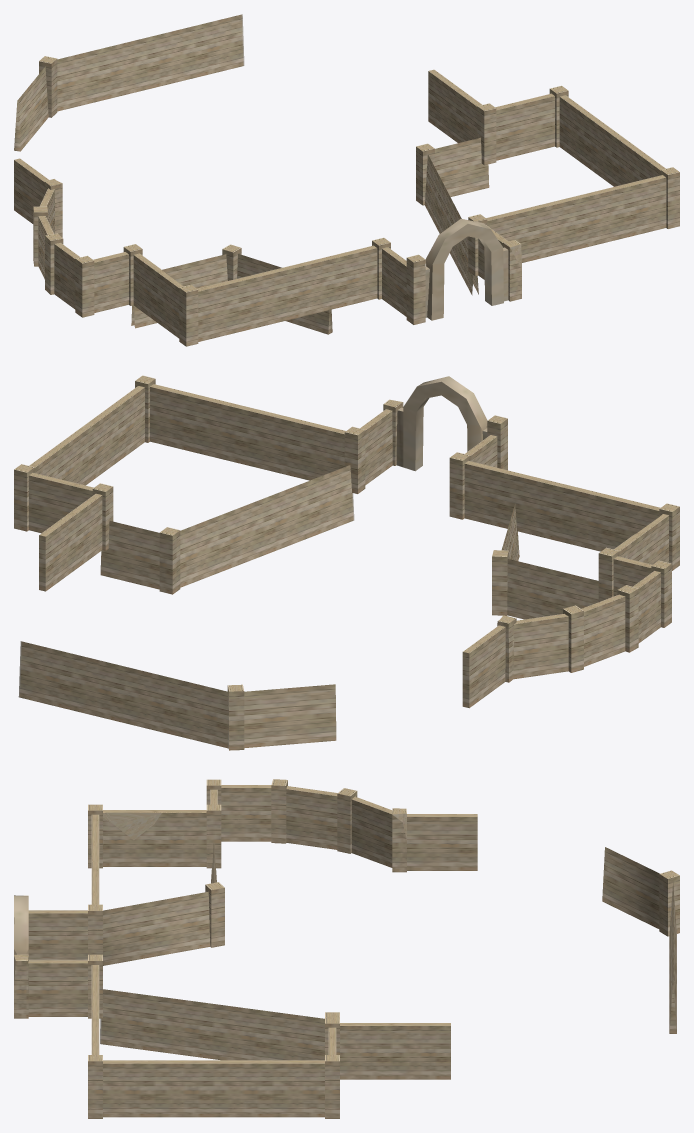
File: poi_nboo_corral_64x64_s01_l1.fbx
3 views of the same model, one above another, from view 1: azimuth 30°, elevation 25°; view 2: azimuth 150°, elevation 25°; view 3: azimuth 270°, elevation 25° (orthographic). The views are drawn at different scales.
Parts seen in each view (by area): view 1: mesh_node; view 2: mesh_node; view 3: mesh_node.
Part boxes in pixels (left/top/right/bottom): mesh_node: left=14, top=14, right=679, bottom=346; mesh_node: left=14, top=375, right=679, bottom=750; mesh_node: left=14, top=779, right=679, bottom=1118.
Bounding box in the file's own units: 45.06 × 9 × 44.96.
Materials: 1 (1 with a texture image).
